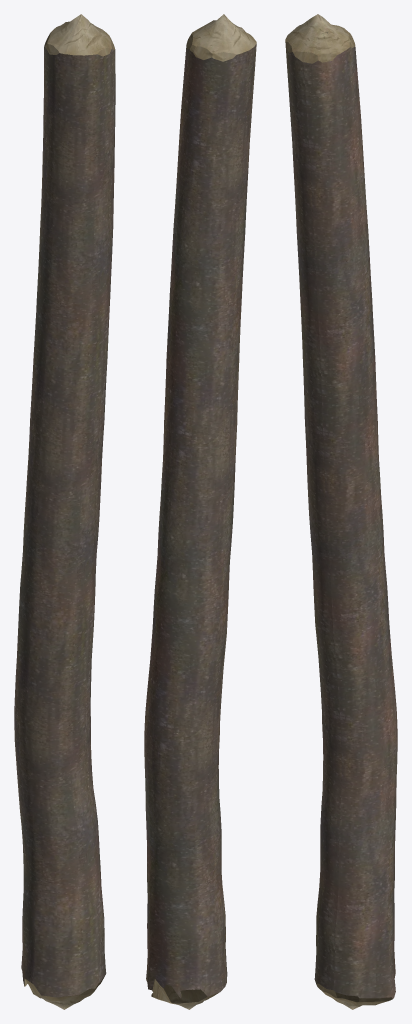
The picture shows the model from 3 angles, left to right: view 1: azimuth 90°, elevation 25°; view 2: azimuth 150°, elevation 25°; view 3: azimuth 330°, elevation 25°; orthographic projection.
Parts seen in each view (by area): view 1: SM_BM_Ash_Tree_01_tree_quarters_bottom_LOD0; view 2: SM_BM_Ash_Tree_01_tree_quarters_bottom_LOD0; view 3: SM_BM_Ash_Tree_01_tree_quarters_bottom_LOD0.
Boxes of the visible parts, x1,y1,x2,y2 form: SM_BM_Ash_Tree_01_tree_quarters_bottom_LOD0: (14, 14, 115, 1009); SM_BM_Ash_Tree_01_tree_quarters_bottom_LOD0: (144, 14, 256, 1009); SM_BM_Ash_Tree_01_tree_quarters_bottom_LOD0: (285, 14, 397, 1009).
Bounding box in the file's own units: 0.7025 × 6.94 × 0.6313.
1 material, 1 textured.
